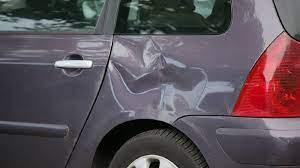quaterpanel-dent: (111, 35, 236, 145)
